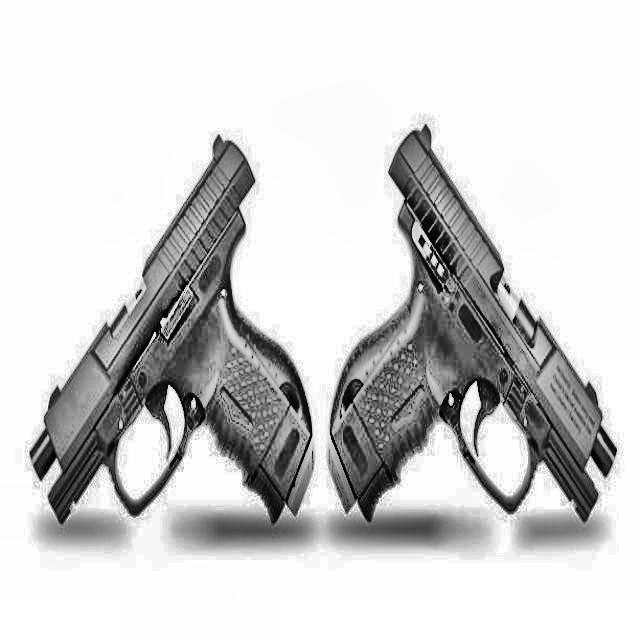pistol: (322, 108, 622, 541)
